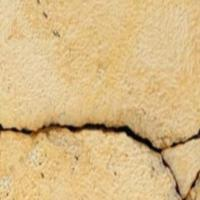crack: (0, 87, 199, 199)
